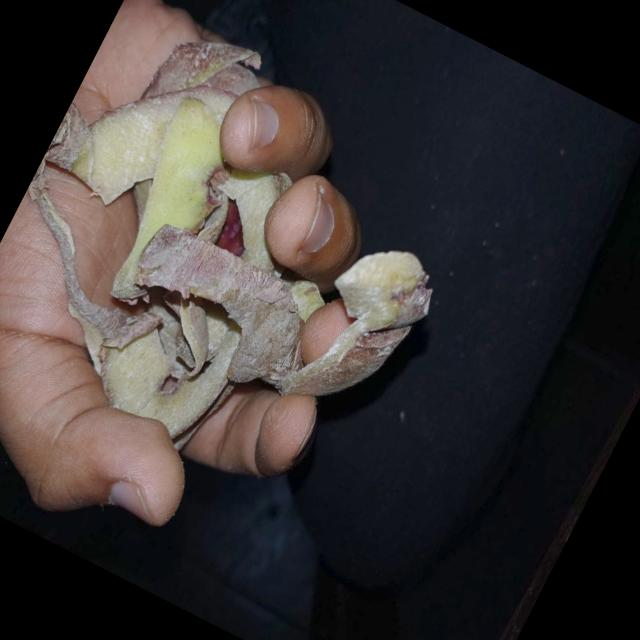organic: (0, 0, 497, 517)
